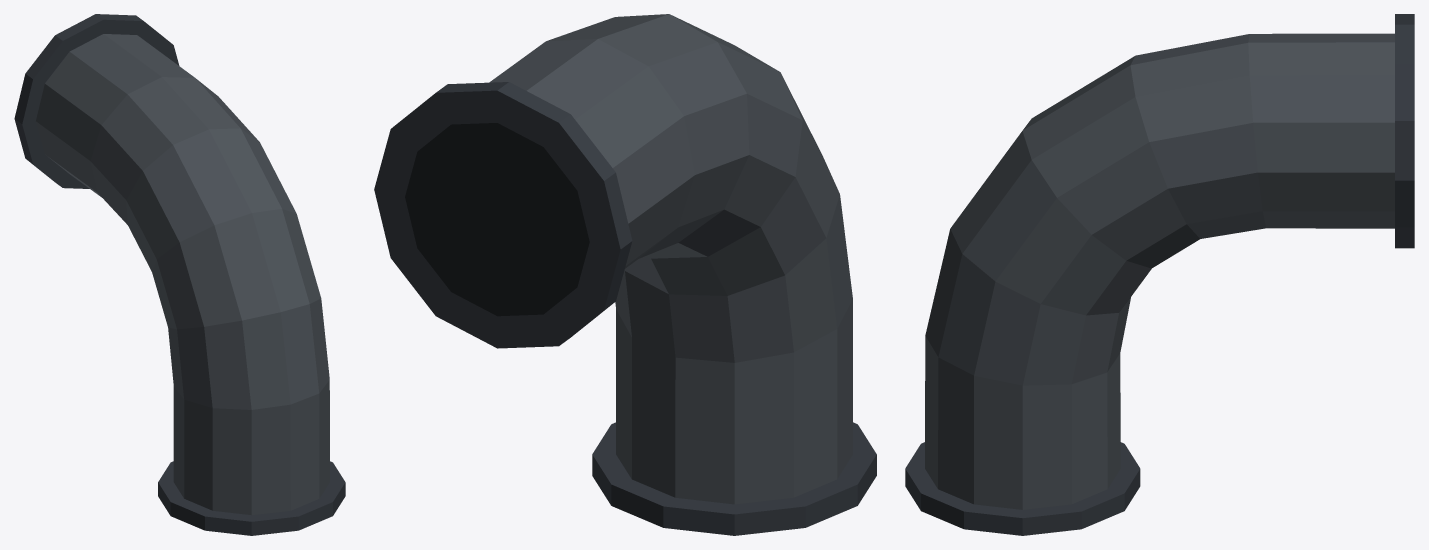
File: Pipe_0.25x0.5_Corner.fbx
3 renders of one model, left to right at view 1: azimuth 30°, elevation 25°; view 2: azimuth 150°, elevation 25°; view 3: azimuth 270°, elevation 25°, orthographic. The views are drawn at different scales.
Visible parts, largest first — view 1: Pipe_0.25x0.5_Corner; view 2: Pipe_0.25x0.5_Corner; view 3: Pipe_0.25x0.5_Corner.
Boxes of the visible parts, x1,y1,x2,y2 form: Pipe_0.25x0.5_Corner: [14, 14, 345, 535]; Pipe_0.25x0.5_Corner: [374, 14, 876, 535]; Pipe_0.25x0.5_Corner: [905, 14, 1414, 535].
Size of the model in its own units: 30 by 65 by 65.
